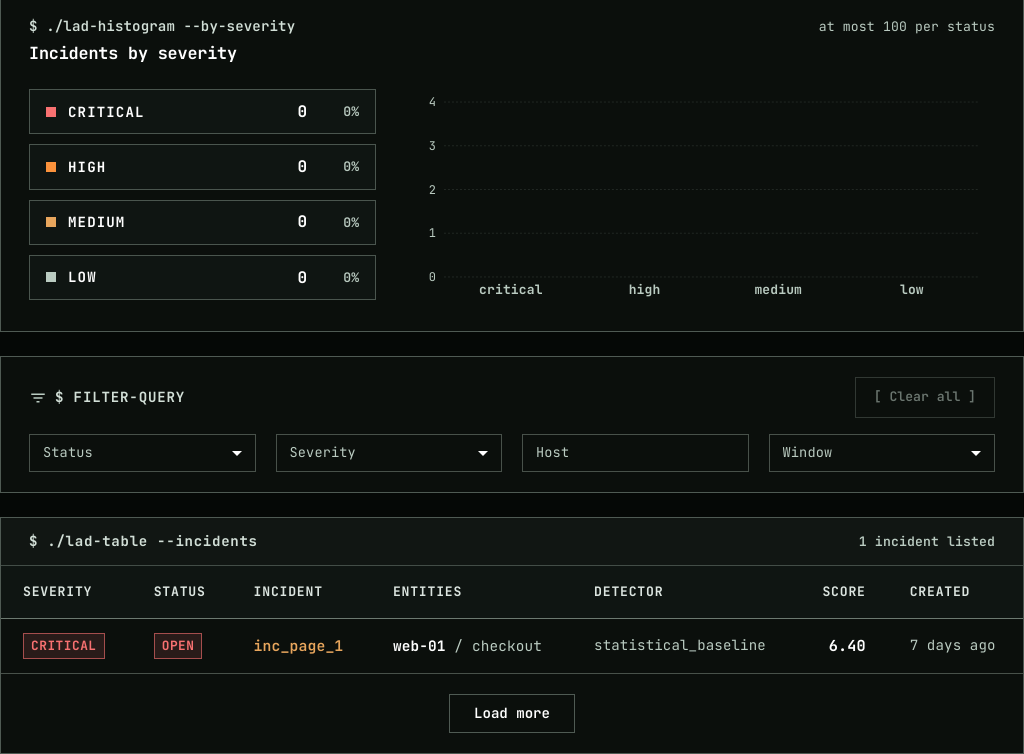
Test: IncidentList › paginates with the opaque cursor from the previous page
(page scrolled)
Check: the link "inc_page_1" is shown, box 254,636 -> 343,655
Click the button "Load more". click: (512, 713)
box: 449,694 -> 575,733
(page scrolled)
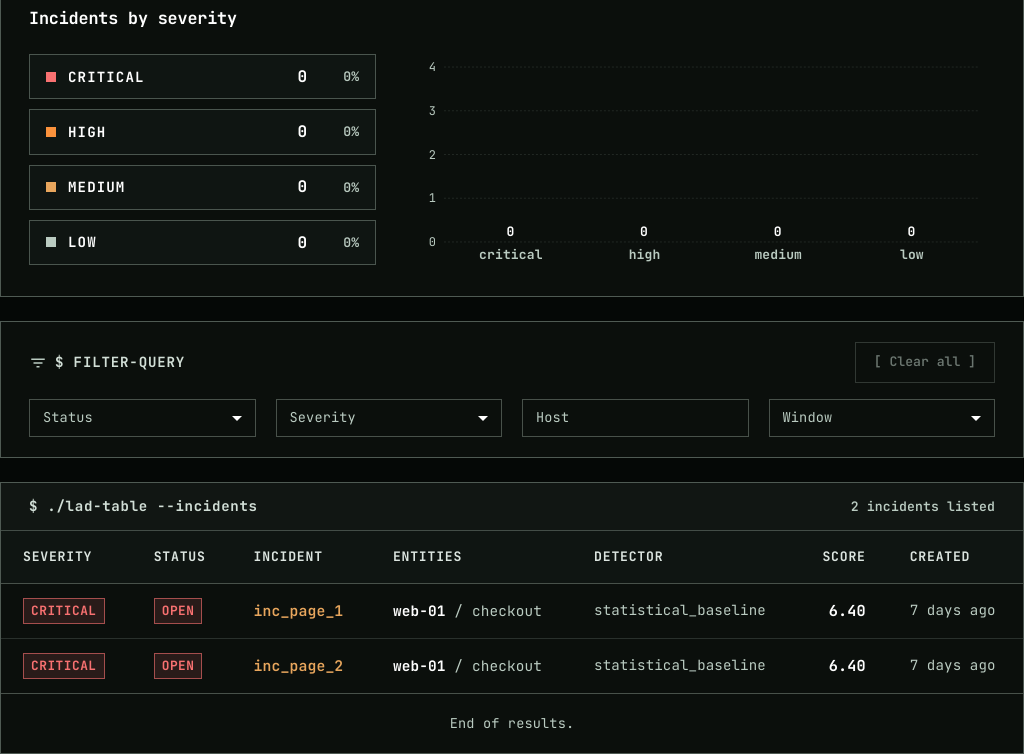
Check: the link "inc_page_2" is shown, box 254,656 -> 343,675
Check: the text "End of results." is shown, box 450,714 -> 574,733
